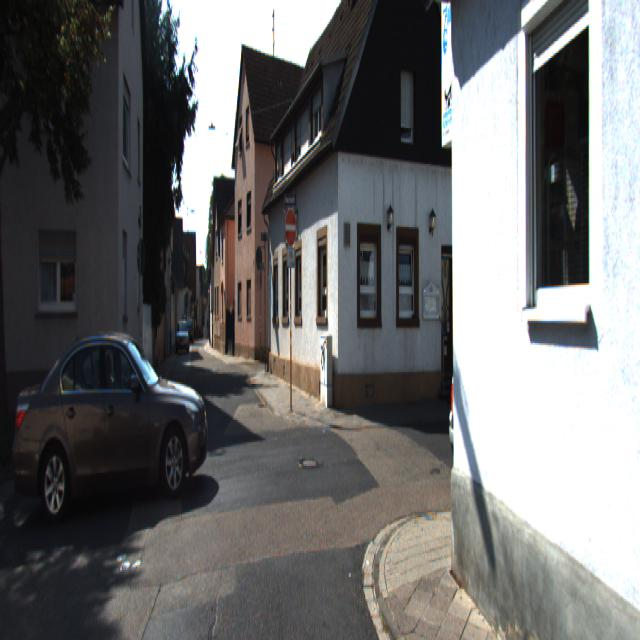Car: (20, 322, 209, 519)
